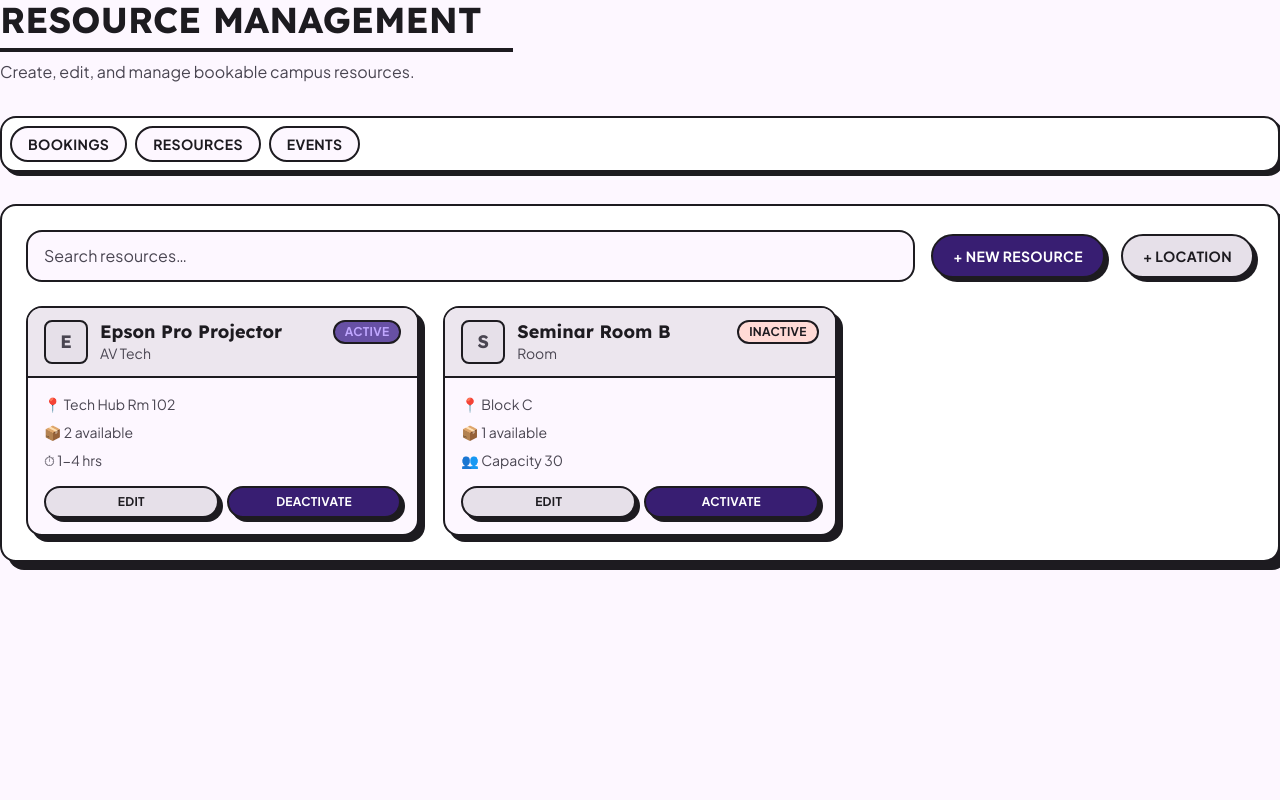
Scenario: AdminResourcesPage › creates a new resource
The width and height of the screenshot is (1280, 800).
Step 1. Click the button "+ New Resource" → (1018, 256), box [931,234,1105,278]
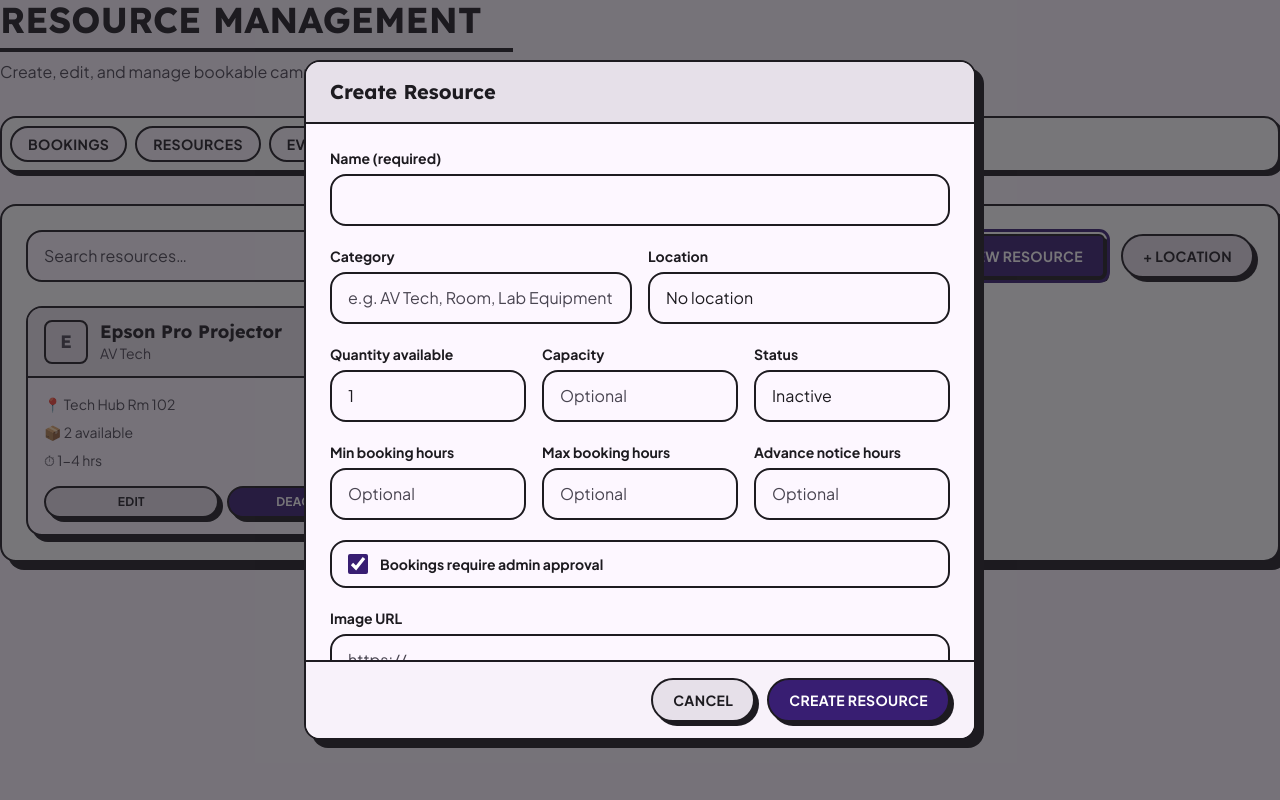
Now the dialog "Create Resource" is shown
Step 2. Type "Drone Kit" into the field labelled "Name (required)" → (640, 200), box [330,174,950,226]
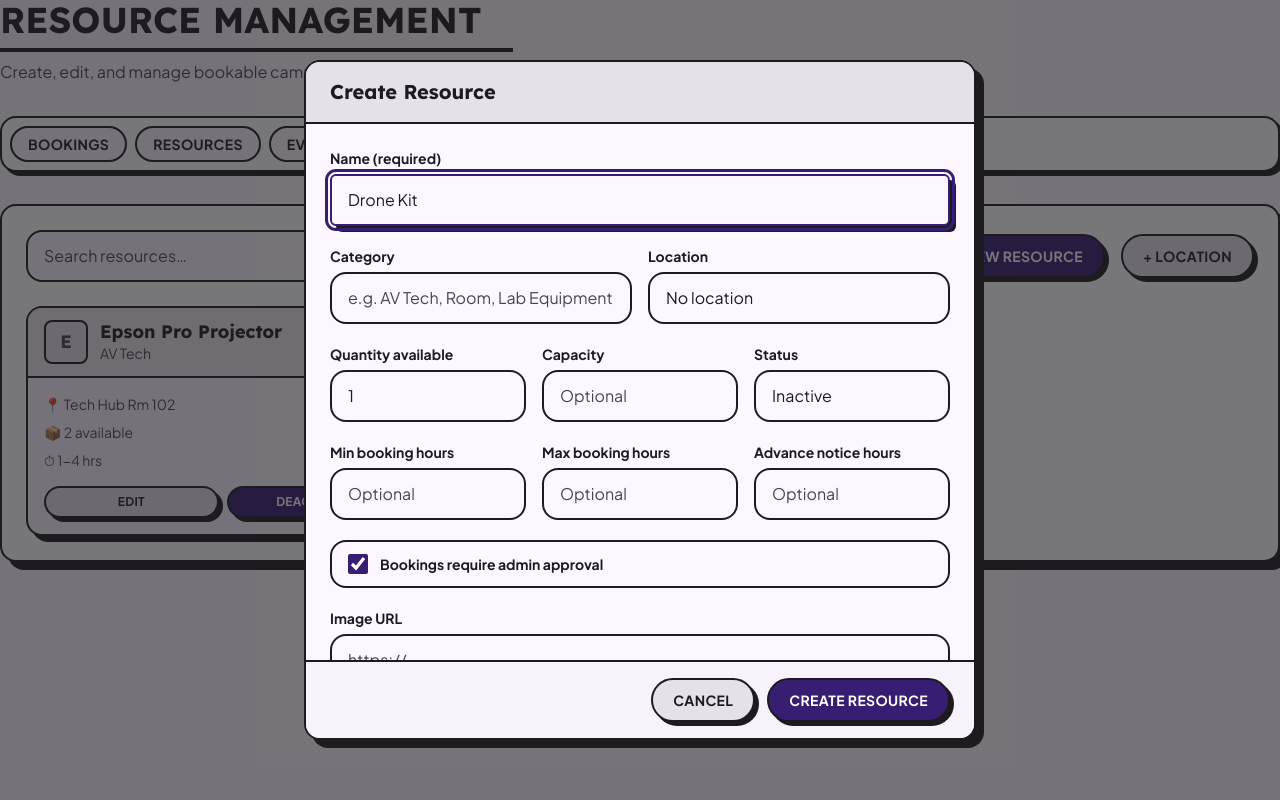
Step 3. Click the button "Create Resource" → (859, 700), box [767,678,950,722]
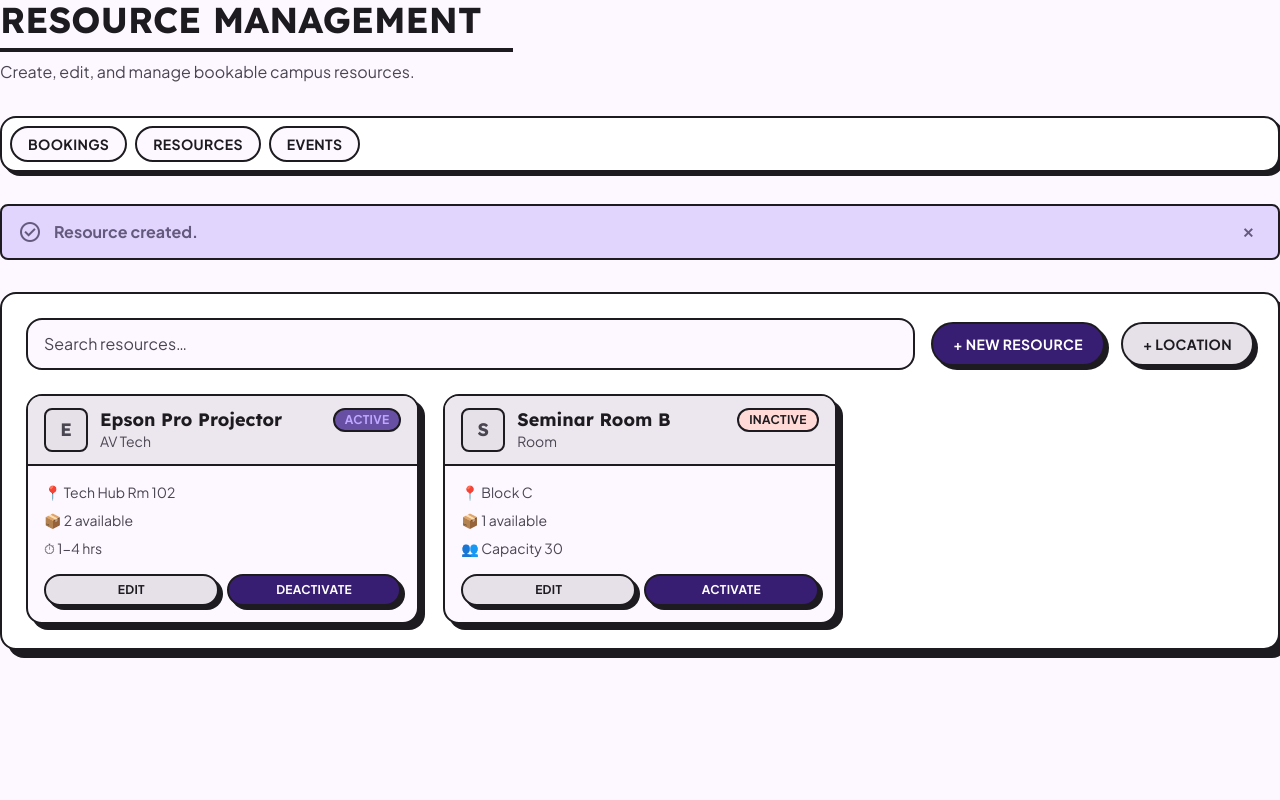
Now the text "Resource created." is shown, box [54,220,198,244]
